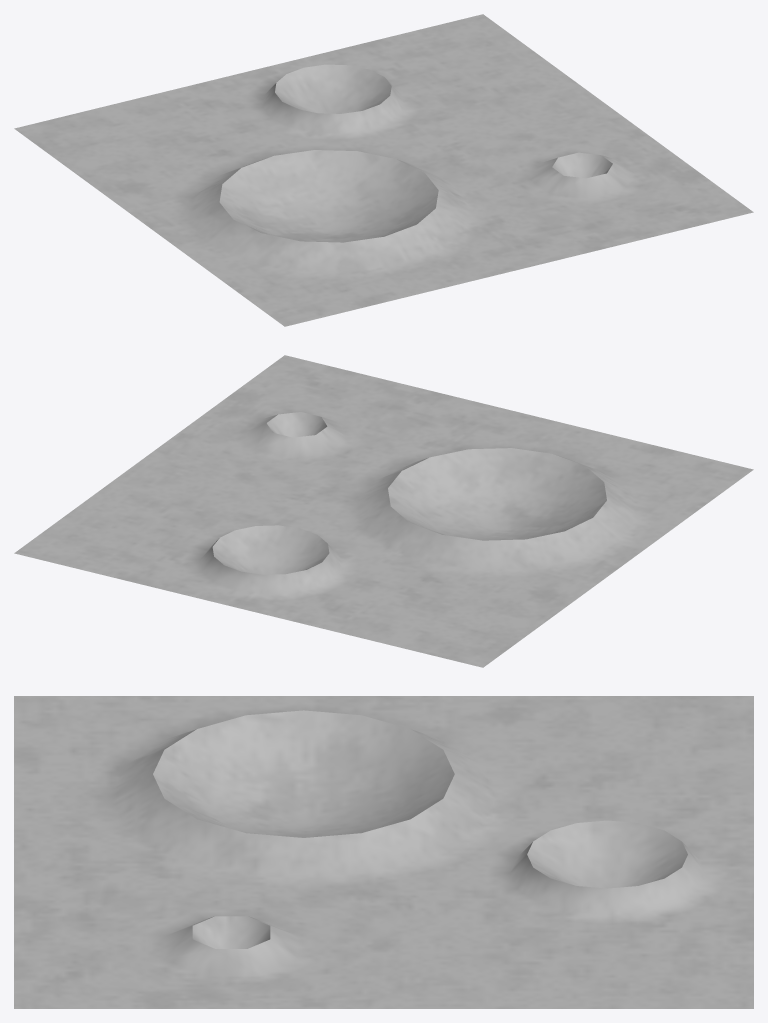
The model's file is m_Tile_Crater_Multi.fbx.
3 renders of one model, top to bottom at view 1: azimuth 30°, elevation 25°; view 2: azimuth 150°, elevation 25°; view 3: azimuth 270°, elevation 25°, orthographic. The views are drawn at different scales.
Visible parts, largest first — view 1: Tile_Crater_Multi; view 2: Tile_Crater_Multi; view 3: Tile_Crater_Multi.
Boxes of the visible parts, box(x1,y1,x2,y2) form: Tile_Crater_Multi: box(14, 14, 753, 326); Tile_Crater_Multi: box(14, 355, 753, 667); Tile_Crater_Multi: box(14, 696, 753, 1008).
Bounding box in the file's own units: 100 × 7.3 × 100.
